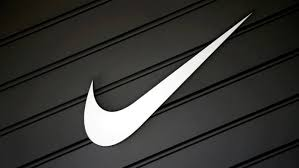nike: (56, 5, 256, 152)
